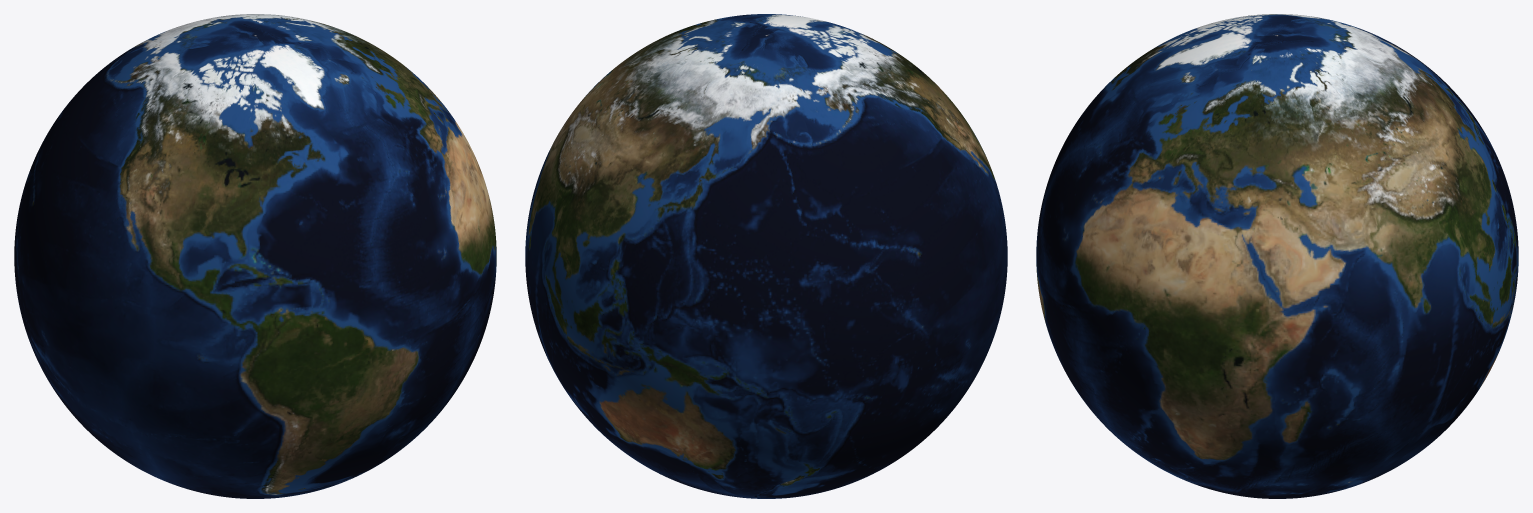
Rendered from earth1.fbx.
The picture shows the model from 3 angles, left to right: view 1: azimuth 30°, elevation 25°; view 2: azimuth 150°, elevation 25°; view 3: azimuth 270°, elevation 25°; orthographic projection.
Visible parts, largest first — view 1: earth; view 2: earth; view 3: earth.
Boxes of the visible parts, x1,y1,x2,y2 form: earth: (14,14,496,498); earth: (525,14,1007,498); earth: (1036,14,1518,498).
Bounding box in the file's own units: 395 × 399 × 395.
Materials: 1 (1 with a texture image).
